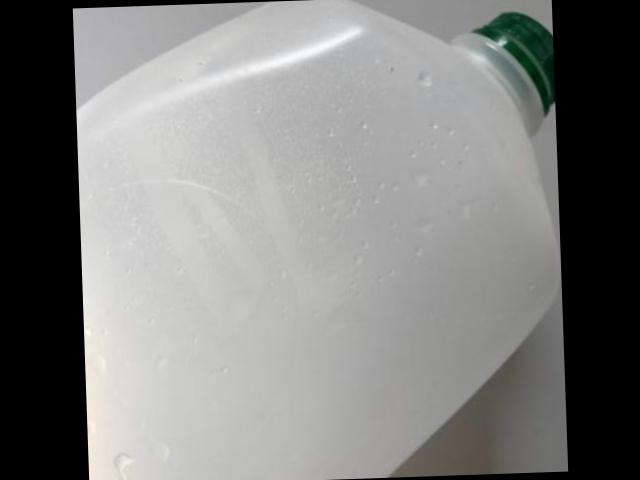plastic: (75, 0, 555, 480)
